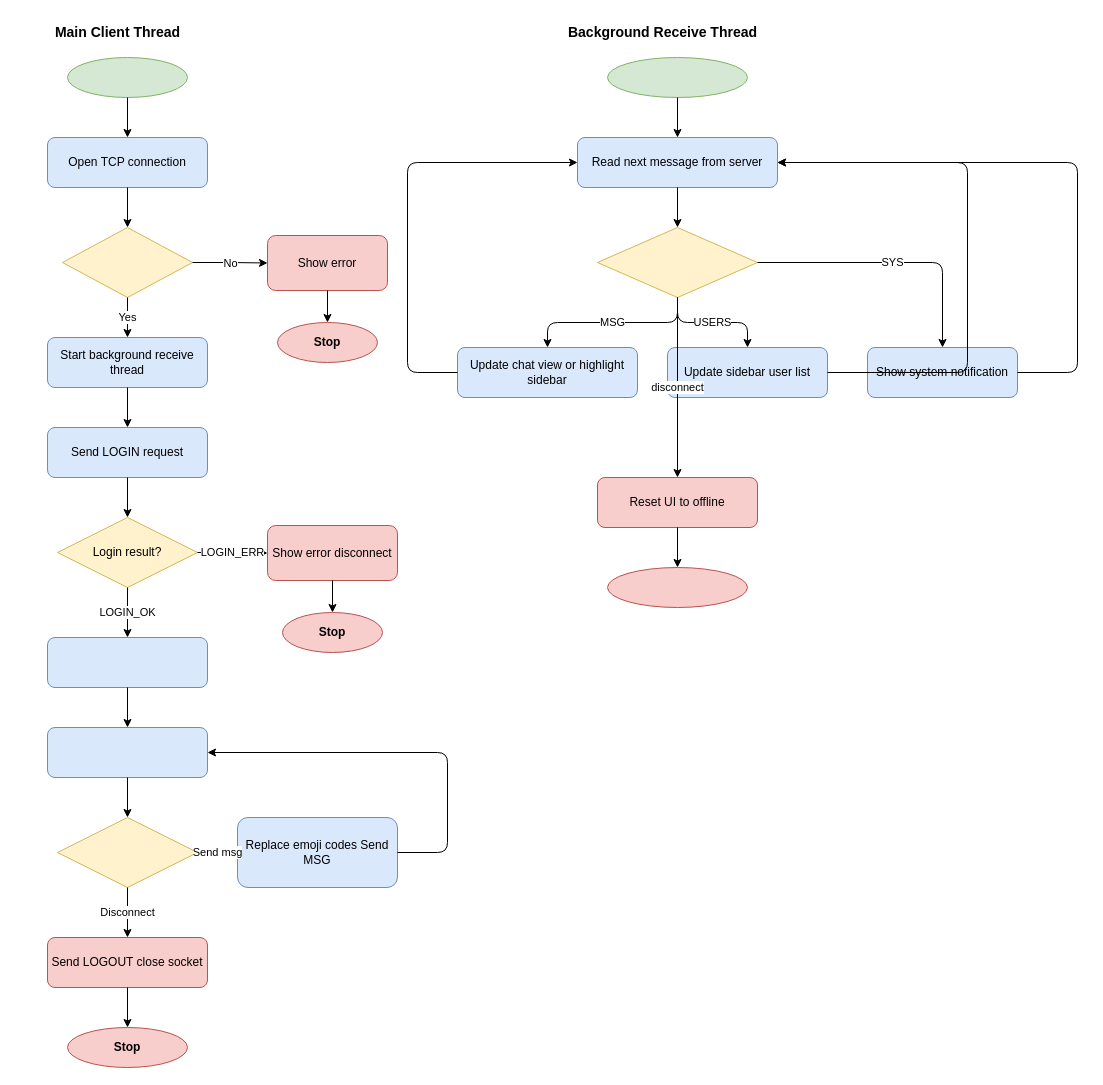
The diagram is 1103 pixels wide and 1085 high, and some of its shapes have lost their labels. The box of each missing label's shape, as (x1, y1, x2, y2) in pixels:
Connected?: (62, 226, 192, 298)
Idle: wait for user or server event: (46, 726, 208, 778)
Load history update sidebar: (46, 636, 208, 688)
Message type?: (596, 226, 758, 298)
Start: (66, 56, 188, 98)
Thread End: (606, 566, 748, 608)
Thread Start: (606, 56, 748, 98)
User action?: (56, 816, 198, 888)
